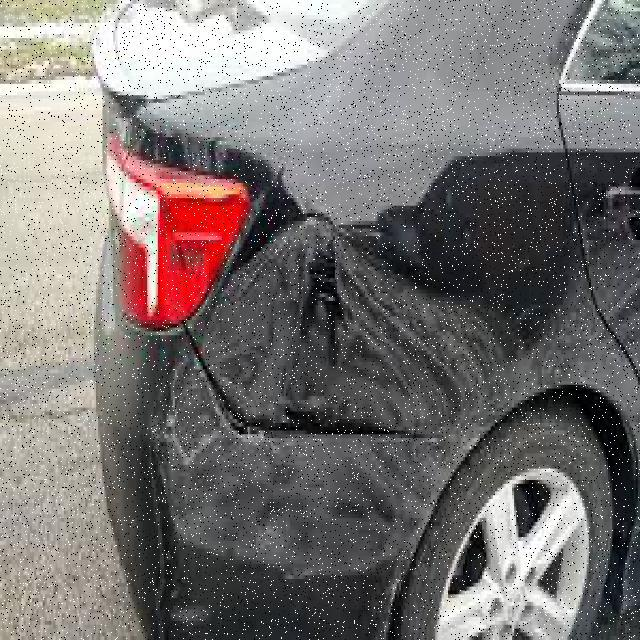quaterpanel-dent: (230, 95, 601, 495)
rear-bumper-dent: (47, 419, 490, 636)
